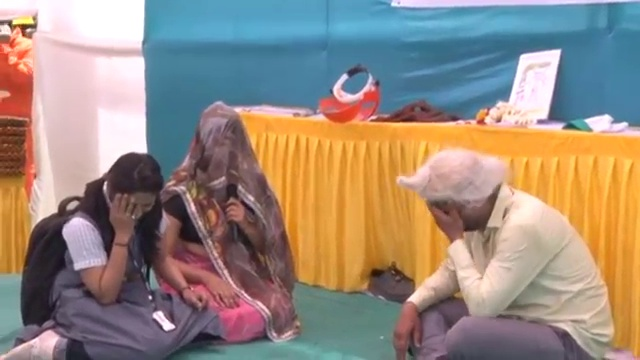helmet_off: (411, 154, 509, 245), (191, 105, 250, 174), (97, 156, 165, 209)
person: (389, 147, 620, 360), (13, 148, 180, 360), (156, 103, 293, 344)
